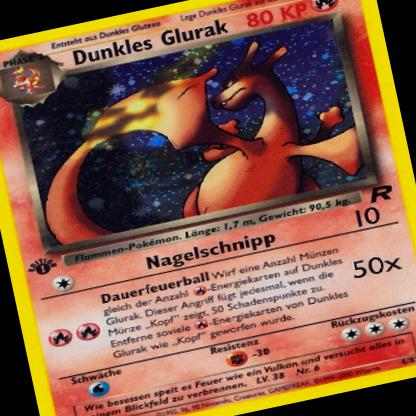Charizard: (62, 28, 361, 245)
